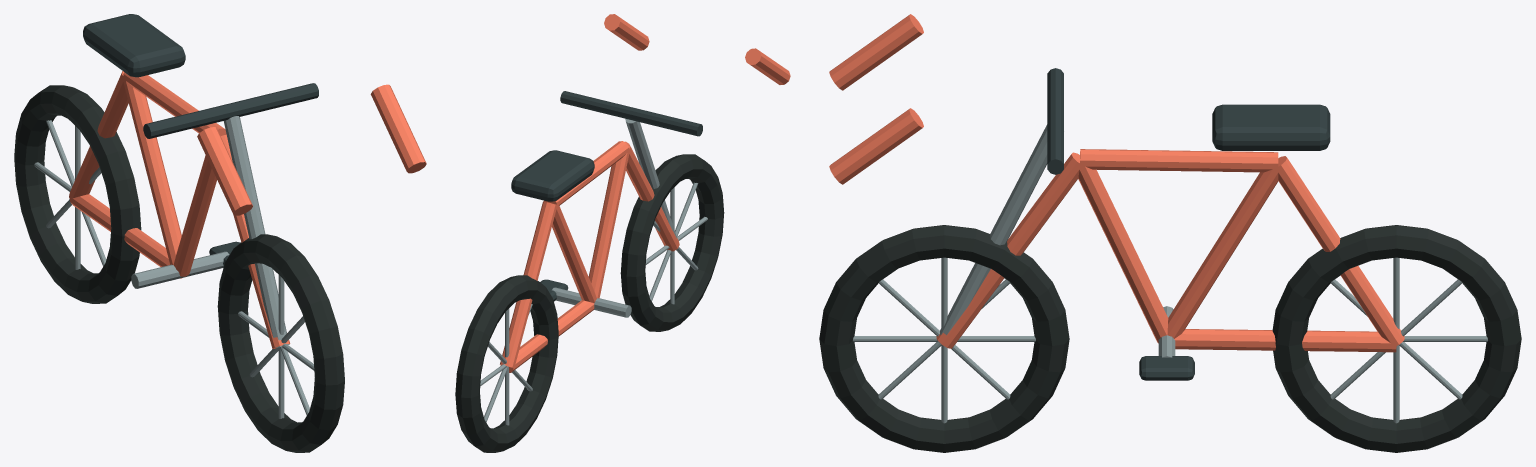
File: bicycle-sprint.glb
3 renders of one model, left to right at view 1: azimuth 30°, elevation 25°; view 2: azimuth 150°, elevation 25°; view 3: azimuth 270°, elevation 25°, orthographic. The views are drawn at different scales.
Visible parts, largest first — view 1: Bicycle tire, Bicycle tire.001, Saddle.002, Bicycle frame.004, Fork, Handlebars, Bicycle frame.005, Aero handlebar.001, Aero handlebar, Bicycle frame.002, Bicycle frame.003, Bicycle frame.001 (+5 smaller); view 2: Bicycle tire.001, Bicycle tire, Saddle.002, Bicycle frame.002, Bicycle frame.005, Handlebars, Bicycle frame.004, Bicycle frame, Bicycle frame.003, Fork, Bicycle frame.001, Aero handlebar (+2 smaller); view 3: Bicycle tire, Bicycle tire.001, Saddle.002, Bicycle frame.001, Bicycle frame.004, Bicycle frame.003, Bicycle frame.002, Bicycle frame.005, Bicycle frame, Fork, Aero handlebar, Aero handlebar.001 (+2 smaller).
Boxes of the visible parts, x1,y1,x2,y2 form: Bicycle tire: (217, 234, 344, 452); Bicycle tire.001: (14, 85, 141, 303); Saddle.002: (83, 14, 185, 77); Bicycle frame.004: (122, 76, 181, 264); Fork: (223, 116, 289, 347); Handlebars: (143, 83, 318, 138); Bicycle frame.005: (173, 155, 216, 276); Aero handlebar.001: (370, 84, 426, 173); Aero handlebar: (197, 127, 252, 215); Bicycle frame.002: (69, 71, 128, 201); Bicycle frame.003: (70, 194, 181, 278); Bicycle frame.001: (123, 72, 226, 135); Bicycle tire.001: (455, 275, 558, 452); Bicycle tire: (620, 154, 724, 331); Saddle.002: (511, 150, 594, 201); Bicycle frame.002: (500, 201, 556, 367); Bicycle frame.005: (588, 149, 629, 298); Handlebars: (560, 91, 702, 136); Bicycle frame.004: (552, 205, 596, 302); Bicycle frame: (624, 141, 679, 251); Bicycle frame.003: (500, 300, 594, 372); Fork: (625, 118, 676, 238); Bicycle frame.001: (544, 141, 628, 206); Aero handlebar: (745, 48, 790, 84); Bicycle tire: (819, 225, 1069, 452); Bicycle tire.001: (1272, 225, 1521, 452); Saddle.002: (1212, 104, 1330, 150); Bicycle frame.001: (1080, 149, 1278, 172); Bicycle frame.004: (1167, 165, 1278, 338); Bicycle frame.003: (1174, 329, 1396, 352); Bicycle frame.002: (1275, 156, 1404, 345); Bicycle frame.005: (1078, 163, 1168, 343); Bicycle frame: (936, 152, 1080, 348); Fork: (937, 124, 1047, 344); Aero handlebar: (829, 14, 923, 90); Aero handlebar.001: (829, 108, 923, 184).
Size of the model in its own units: 0.7066 by 1.24 by 2.02.
